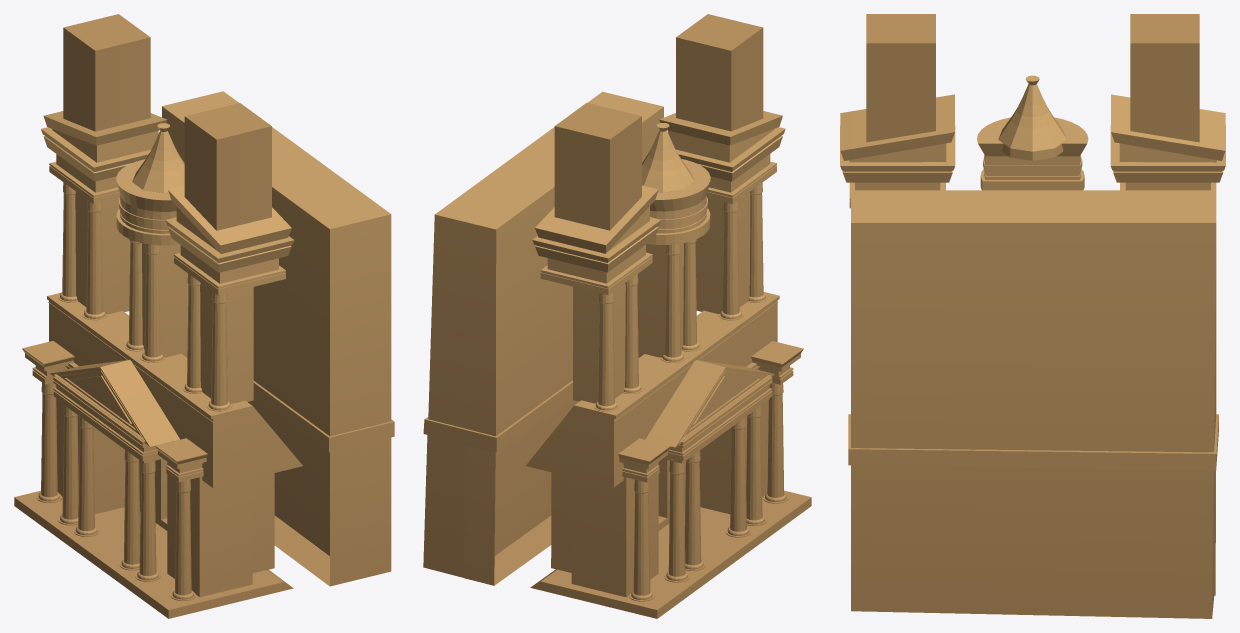
Rendered from temple.fbx.
The picture shows the model from 3 angles, left to right: view 1: azimuth 30°, elevation 25°; view 2: azimuth 150°, elevation 25°; view 3: azimuth 270°, elevation 25°; orthographic projection. The views are drawn at different scales.
Visible parts, largest first — view 1: Cube.577; view 2: Cube.577; view 3: Cube.577.
Part boxes in pixels (x1,y1,x2,y2): Cube.577: (14,14,394,618); Cube.577: (423,14,811,618); Cube.577: (840,14,1225,618).
Bounding box in the file's own units: 25.32 × 49.39 × 33.92.
Materials: 1 (1 with a texture image).
